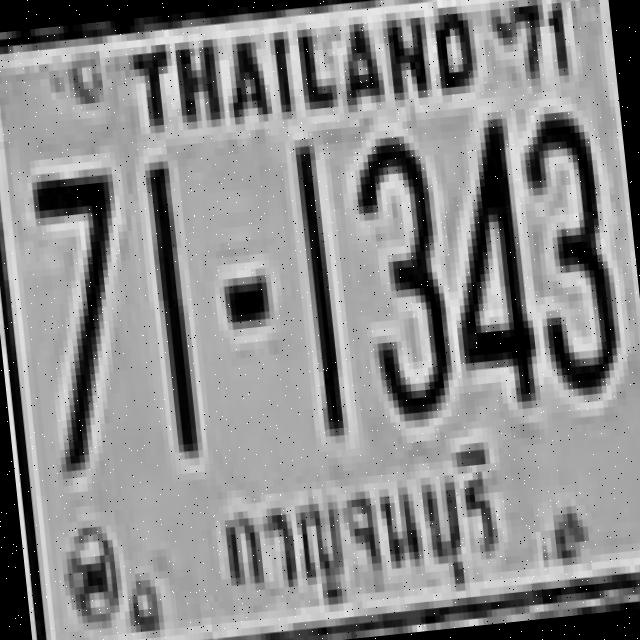1: (139, 161, 198, 453), (288, 134, 344, 433)
3: (514, 101, 620, 392), (346, 126, 451, 416)
4: (435, 114, 535, 403)
7: (27, 167, 136, 465), (26, 170, 130, 396)
Kanchanaburi: (210, 438, 515, 628)
